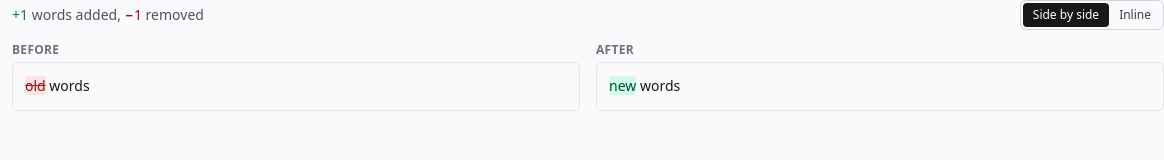
Scenario: DiffView › switches to the inline layout with the keyboard-accessible radio group
Click the radio button labelled "Inline" at (1135, 14), box 1119,6 -> 1151,23
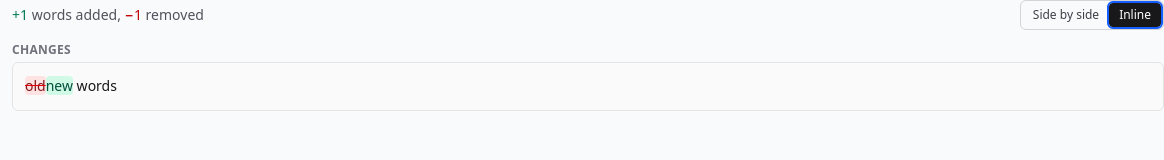
Result: the heading "Before" is gone
Result: the heading "Changes" is shown at 12,41 -> 71,58
